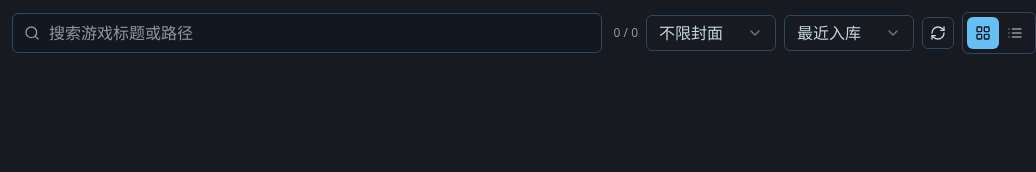
Test case: changes the cover filter through all three choices
Press ArrowDown in the dropdown named "封面筛选", box [646,15,776,51]
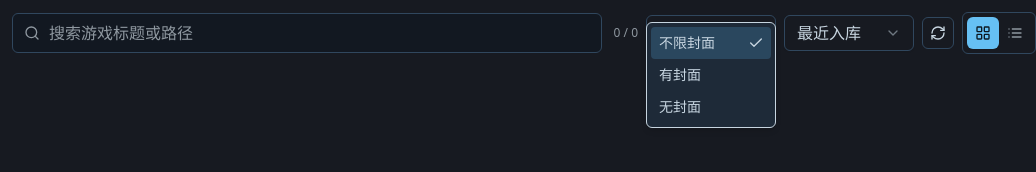
Click the option "有封面". click: (680, 74)
box: [659,65,701,84]
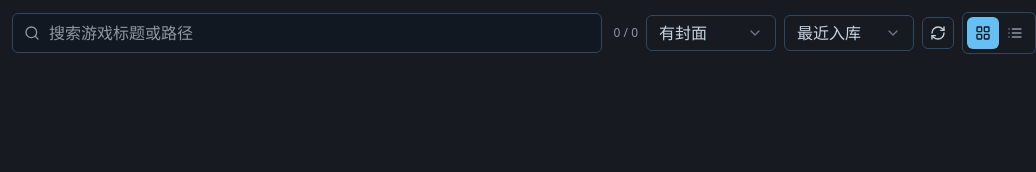
Check: the dropdown named "封面筛选" reads "有封面"
Press ArrowDown in the dropdown named "封面筛选", box [646,15,776,51]
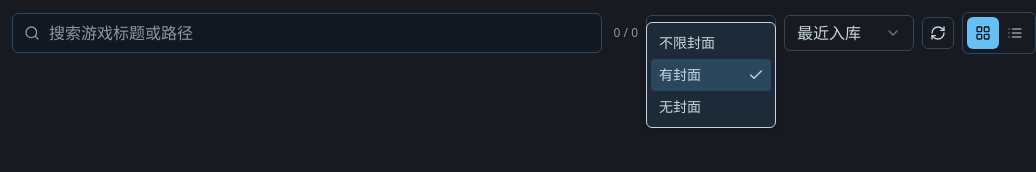
Click the option "无封面". click: (680, 106)
box: [659,97,701,116]
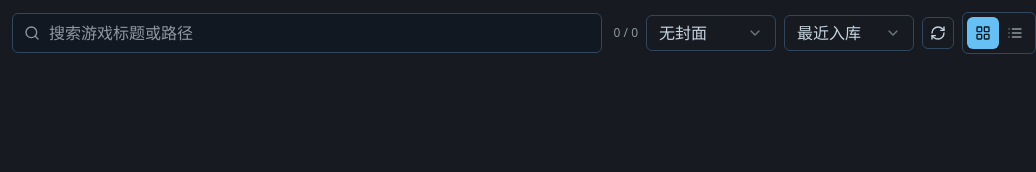
Check: the dropdown named "封面筛选" reads "无封面"
Press ArrowDown in the dropdown named "封面筛选", box [646,15,776,51]
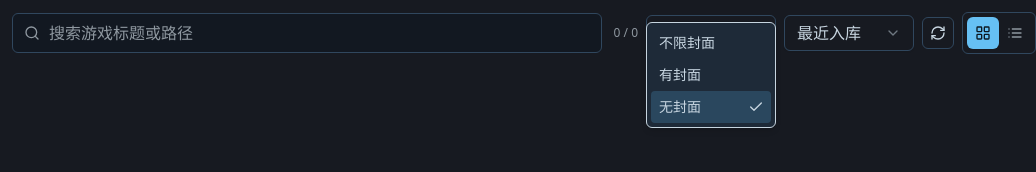
Click the option "不限封面". click: (687, 42)
box: [659,33,715,52]
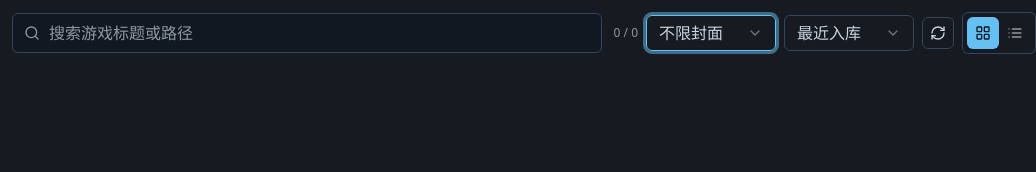
Check: the dropdown named "封面筛选" reads "不限封面", box [646,15,776,51]
